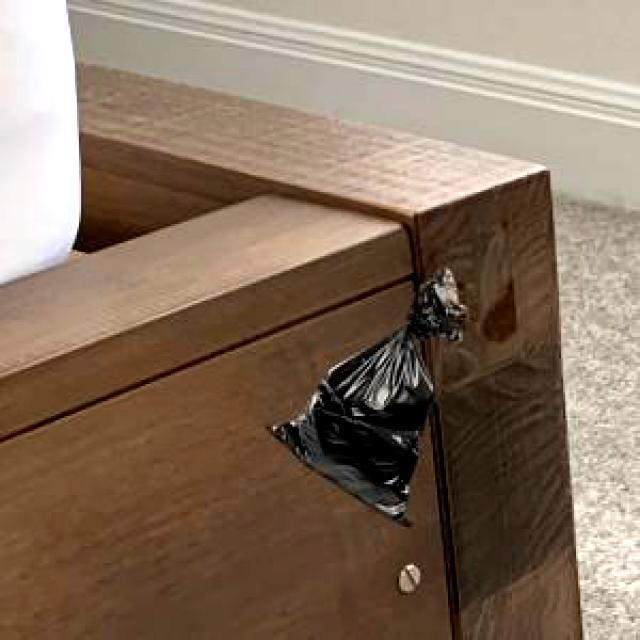Garbage_Bag: (264, 266, 466, 524)
